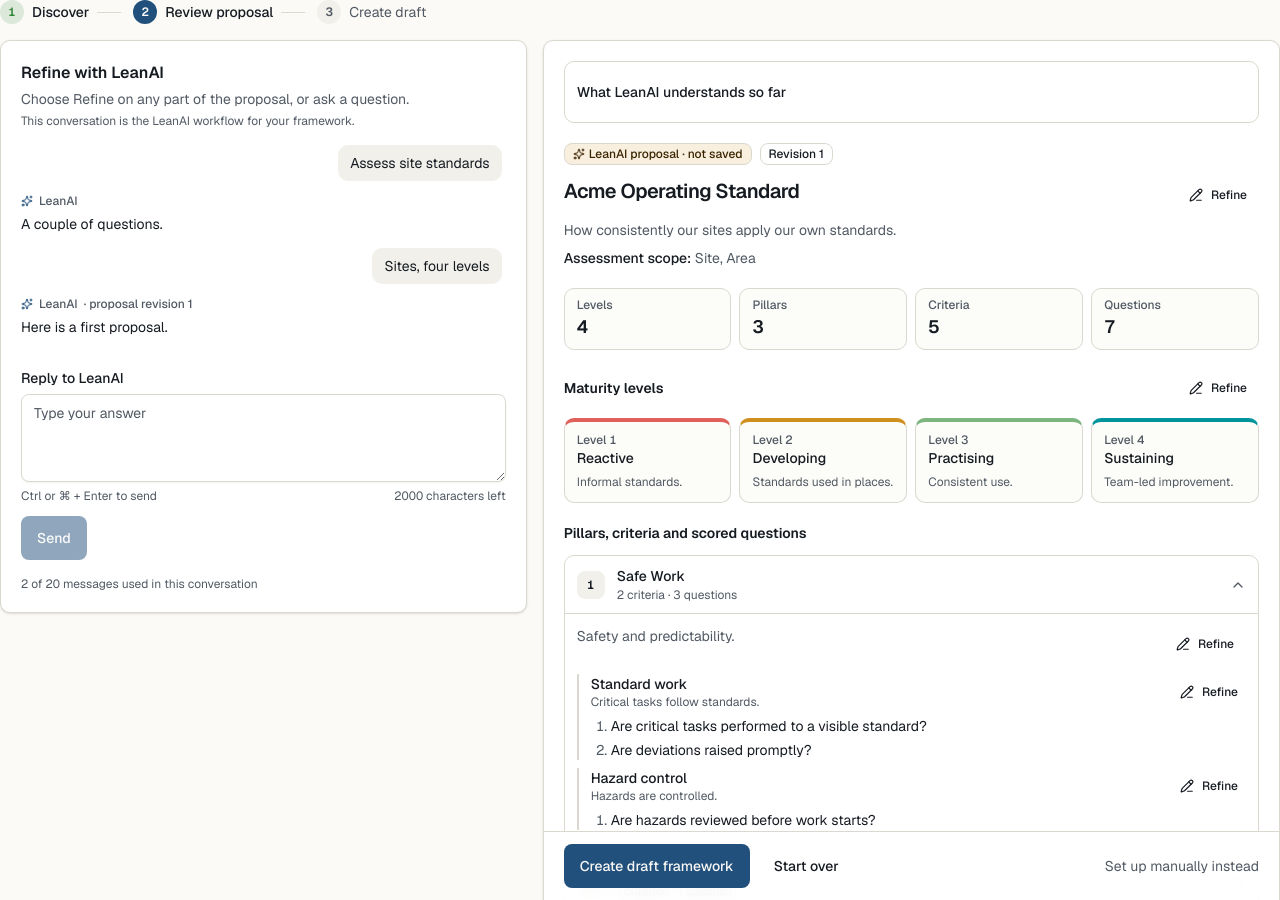
Test: MaturityBuilderWorkspace › confirms before starting over
Click the button with test id "maturity-builder-discard" at (806, 866), box 758,844 -> 855,888
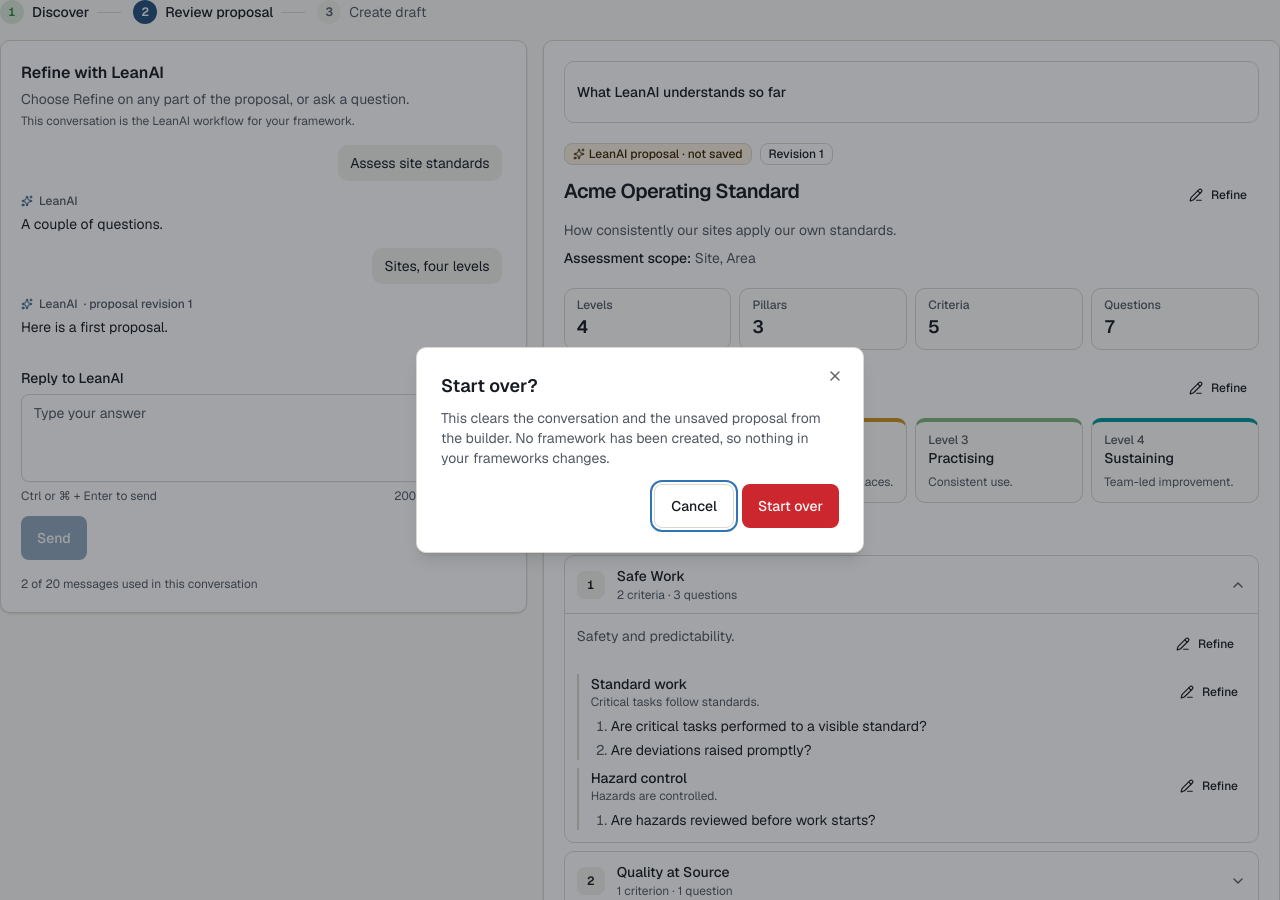
Expected: the dialog with test id "maturity-builder-discard-dialog" shows "No framework has been created", 441,409 -> 821,467
Click the button with test id "maturity-builder-confirm-discard" at (790, 506), box 742,484 -> 839,528
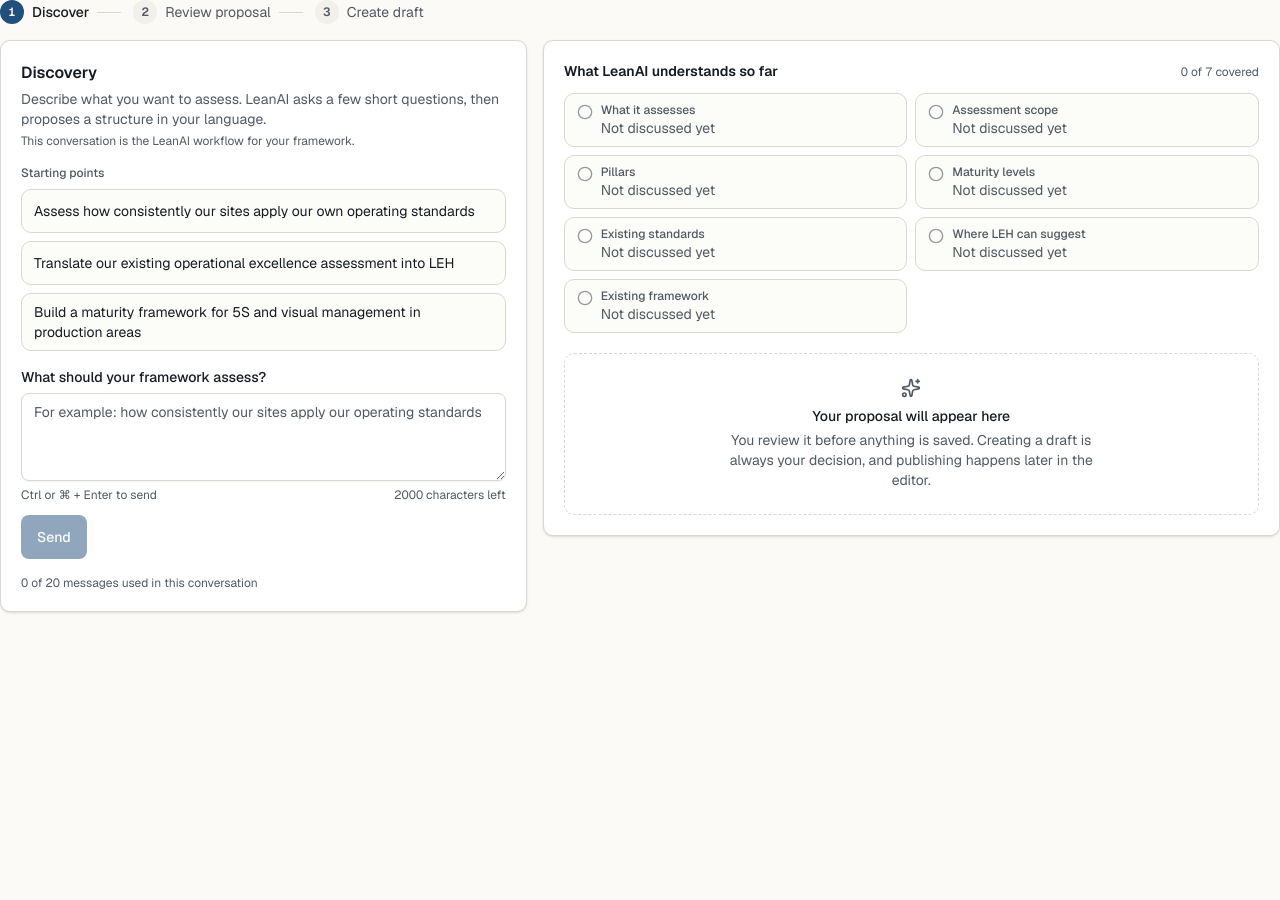
Expected: the element with test id "maturity-builder-starters" is shown, 21,165 -> 506,351
